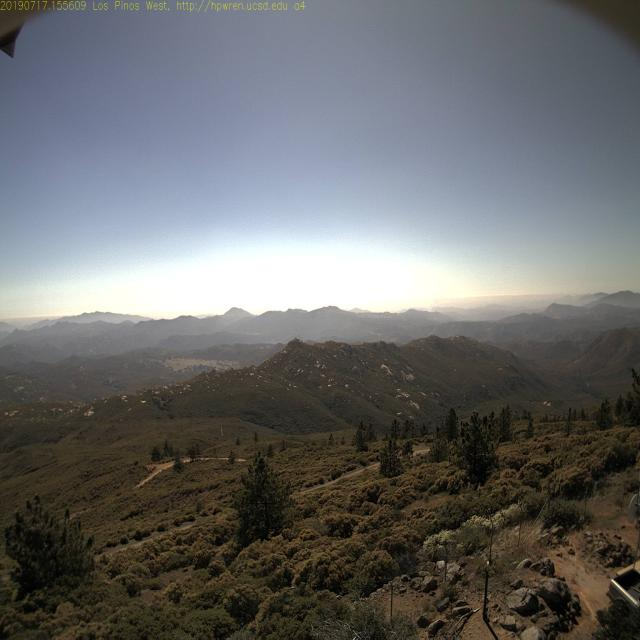smoke: (417, 292, 439, 320)
